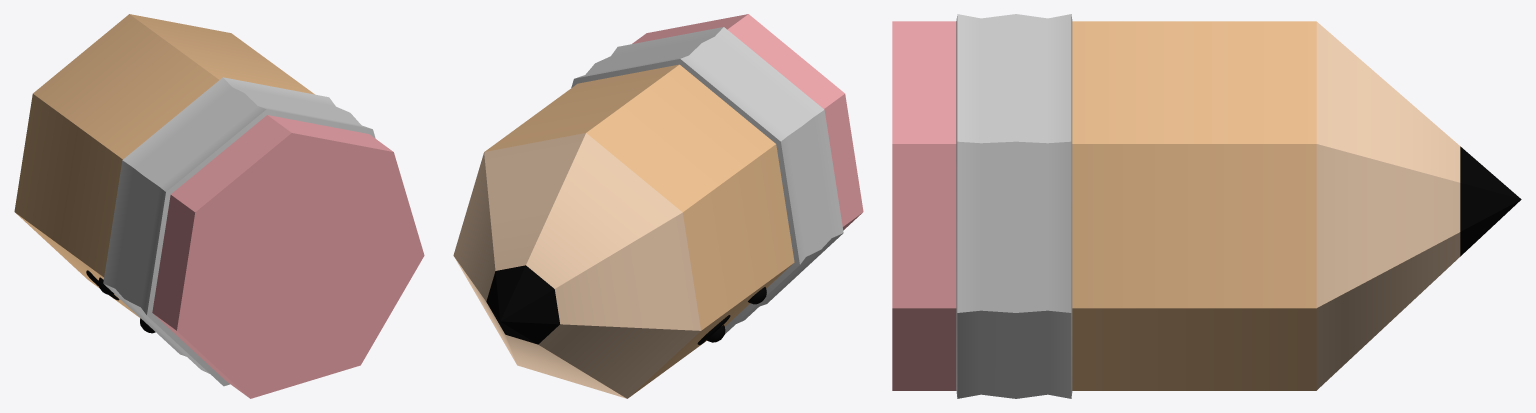
File: enpituakorogaru.fbx
3 renders of one model, left to right at view 1: azimuth 30°, elevation 25°; view 2: azimuth 150°, elevation 25°; view 3: azimuth 270°, elevation 25°, orthographic. The views are drawn at different scales.
Parts seen in each view (by area): view 1: pCylinder1; view 2: pCylinder1; view 3: pCylinder1.
Part boxes in pixels (bbox=[...]): pCylinder1: bbox=[14, 14, 424, 398]; pCylinder1: bbox=[453, 14, 863, 398]; pCylinder1: bbox=[892, 14, 1521, 398].
Bounding box in the file's own units: 49.09 × 48.48 × 79.42.
